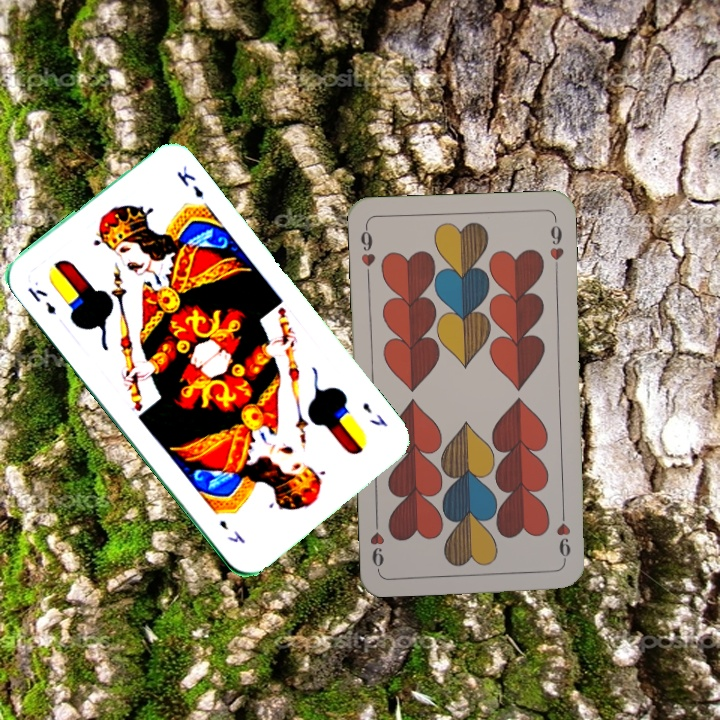EK: (23, 283, 59, 317), (358, 398, 390, 430)
H9: (356, 222, 378, 281), (552, 505, 573, 564)
